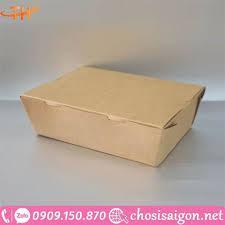box: (20, 65, 206, 168)
